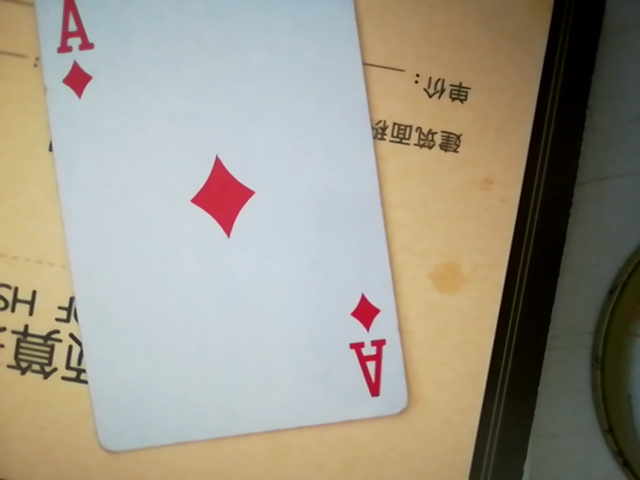fk a: (37, 6, 424, 447)
